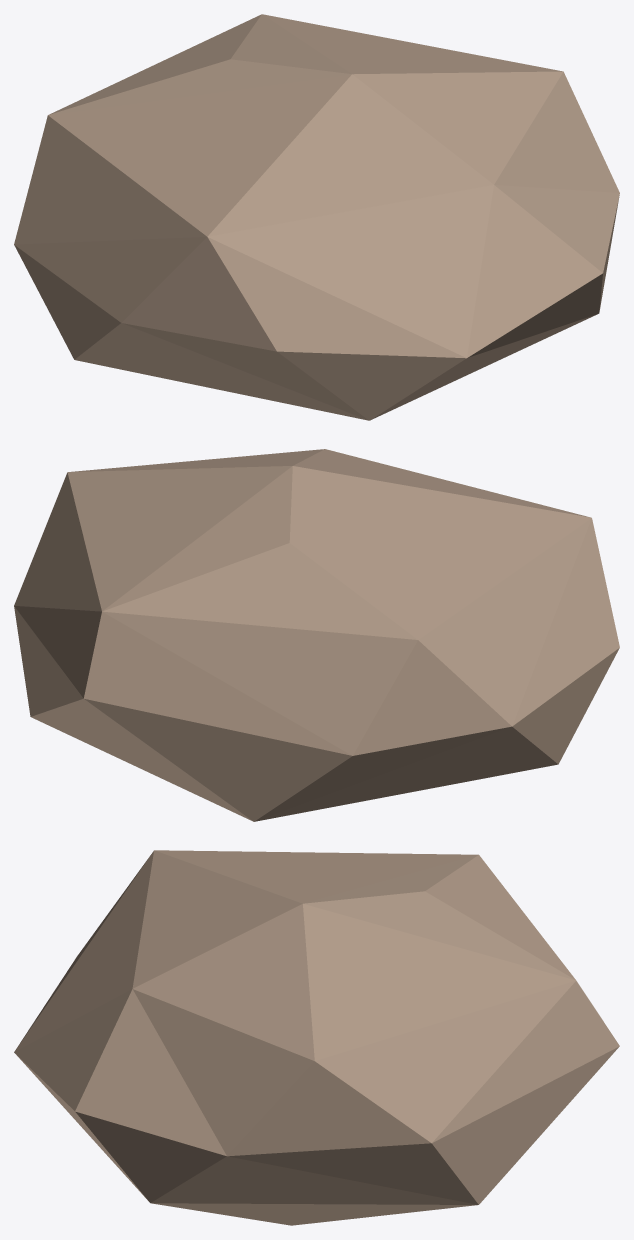
Rendered from Asteroid.fbx.
3 views of the same model, one above another, from view 1: azimuth 30°, elevation 25°; view 2: azimuth 150°, elevation 25°; view 3: azimuth 270°, elevation 25° (orthographic). The views are drawn at different scales.
Parts seen in each view (by area): view 1: Asteroid_Big; view 2: Asteroid_Big; view 3: Asteroid_Big.
Boxes of the visible parts, bbox=[...] form: Asteroid_Big: bbox=[14, 14, 619, 420]; Asteroid_Big: bbox=[14, 449, 619, 821]; Asteroid_Big: bbox=[14, 850, 619, 1225].
Bounding box in the file's own units: 9.56 × 5.32 × 10.11.
